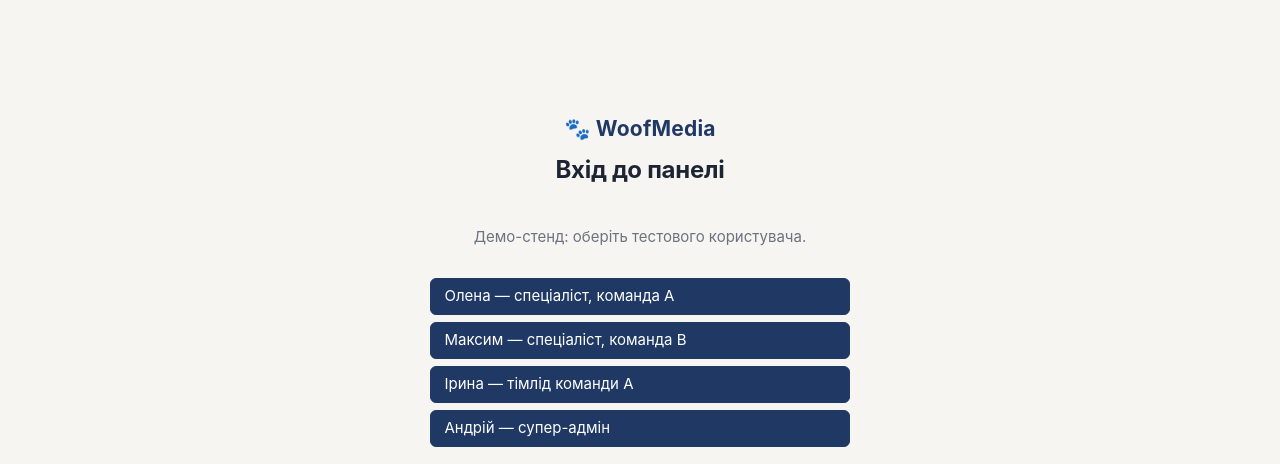
Scenario: Вхід і меню за можливостями › спеціаліст після входу бачить лише «Черга»; супер-адмін — усі розділи
Click the button "Олена — спеціаліст, команда A" at (640, 297), box [430,278,850,315]
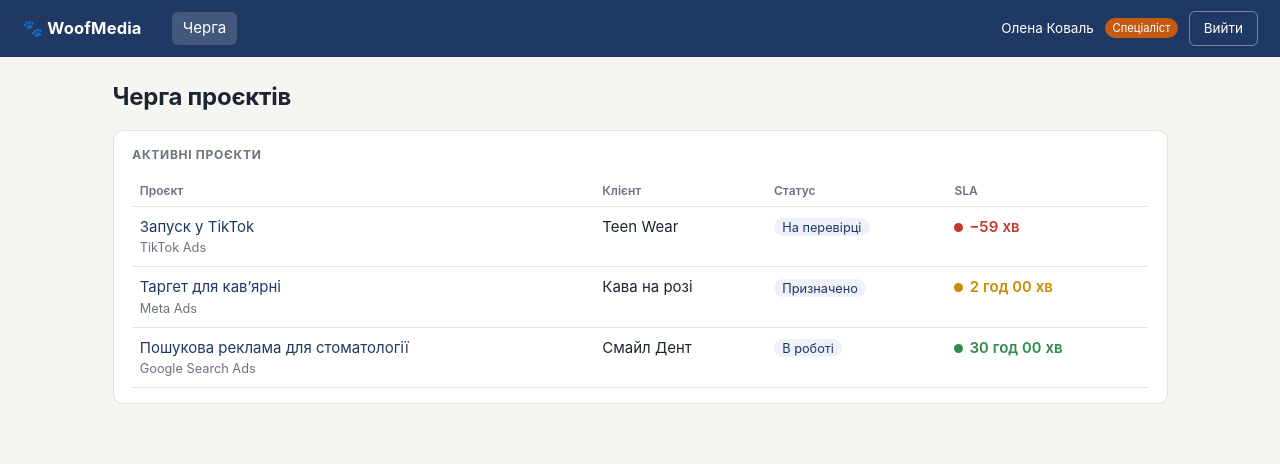
Result: the links read "Черга", in this order at [172,12,238,45]
Result: the heading "Черга проєктів" is shown at [112,82,291,111]
Result: the link "Пошукова реклама для стоматології" is shown at [140,338,409,357]
